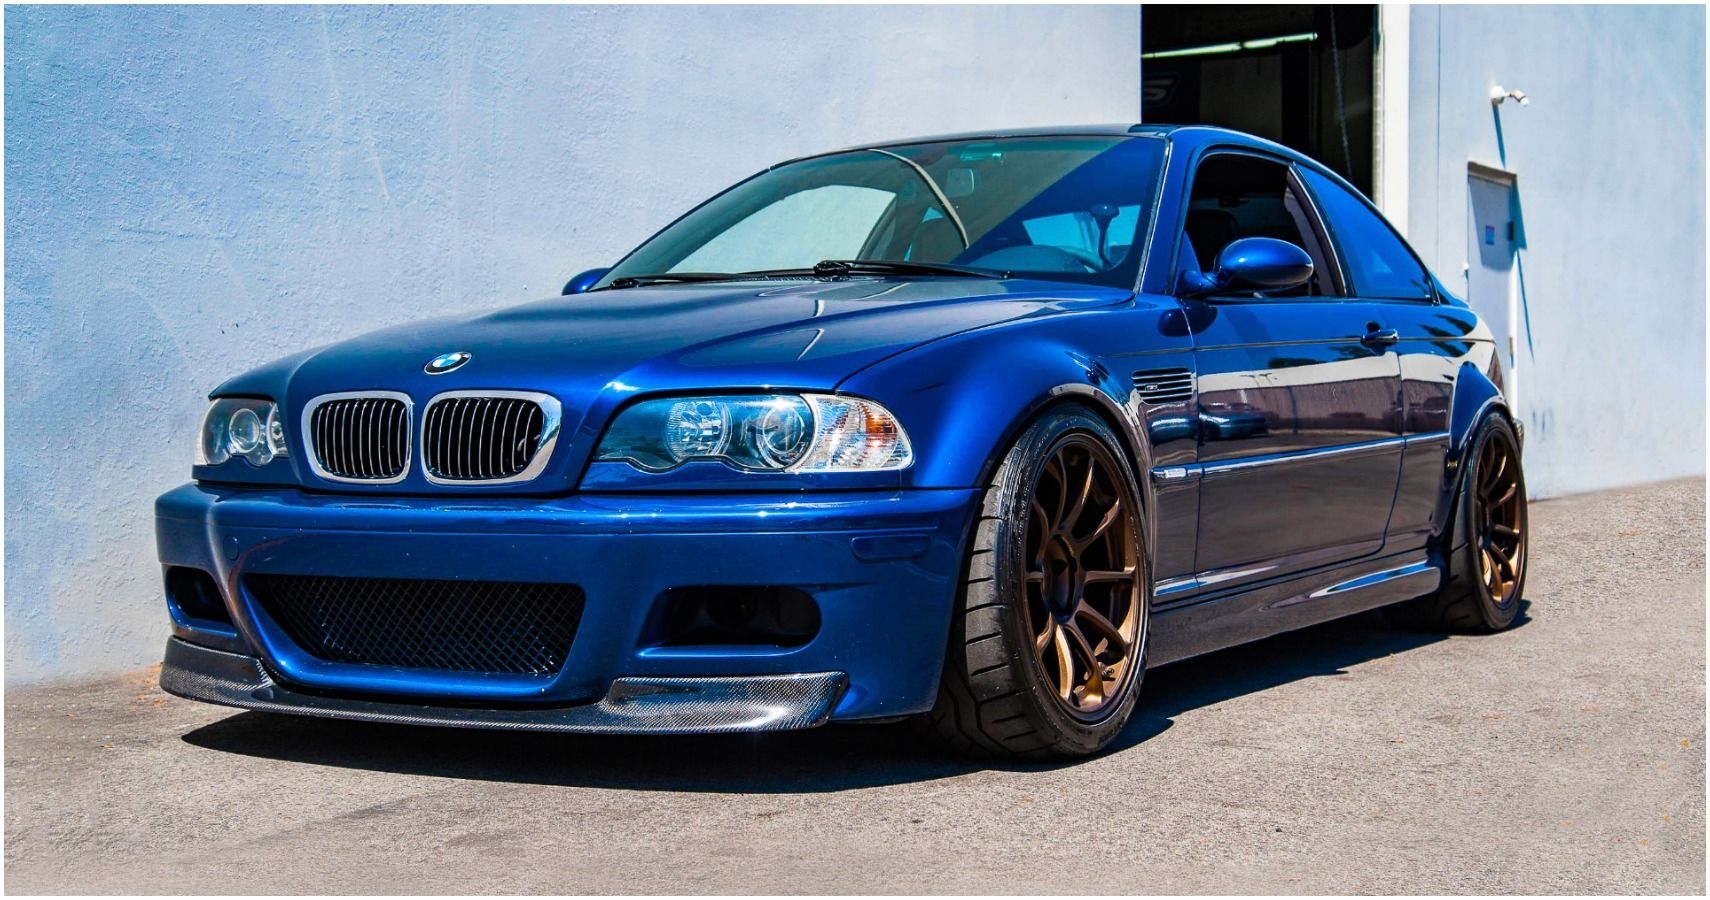headlight: (571, 387, 914, 478), (182, 377, 300, 471)
wheel: (938, 447, 1176, 763), (1419, 383, 1544, 642)
